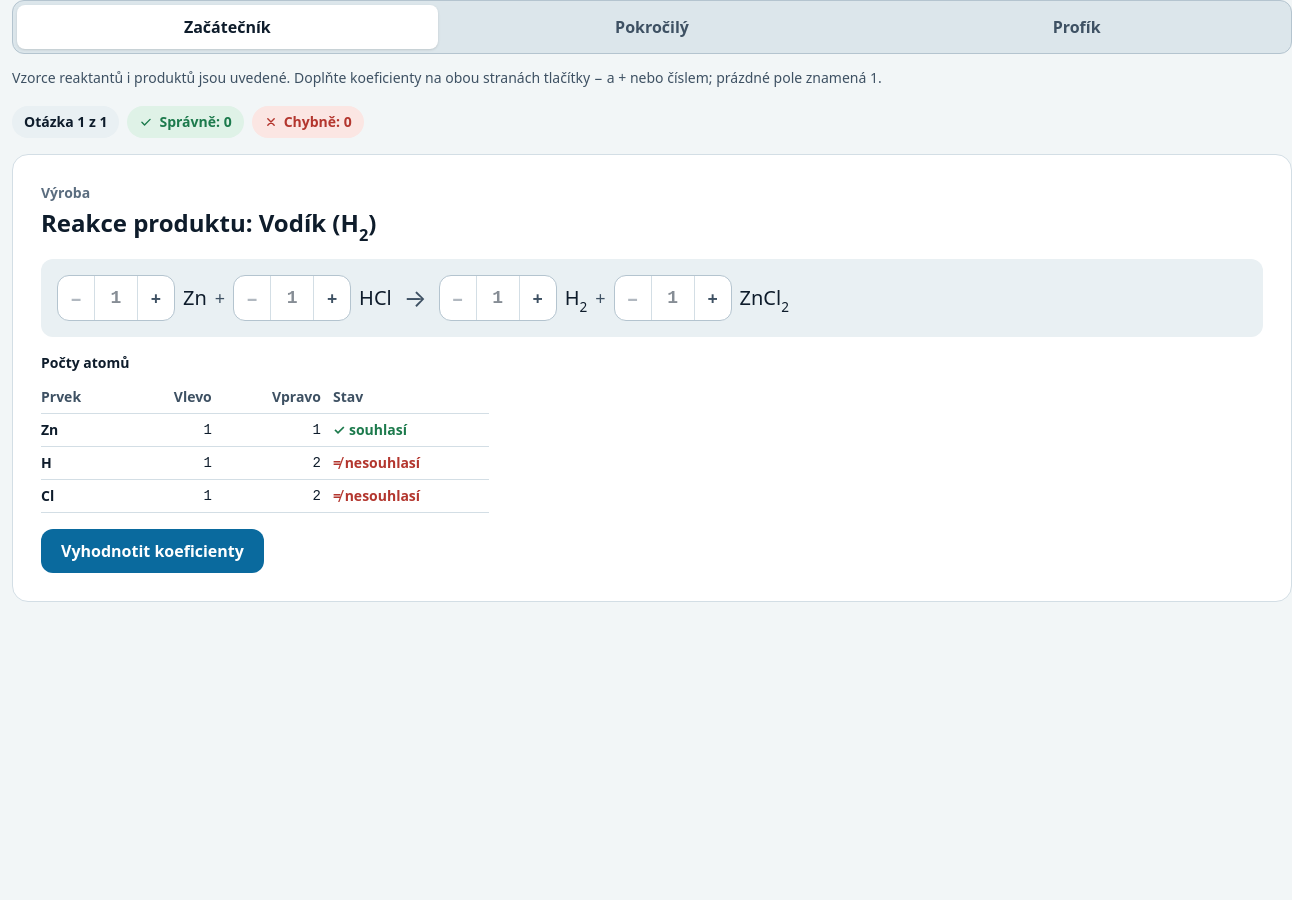
Test: reaction equation practice › accepts reordered products and then balanced coefficients at advanced level
Click the button "Pokročilý". click: click(652, 27)
box: [442,5,862,49]
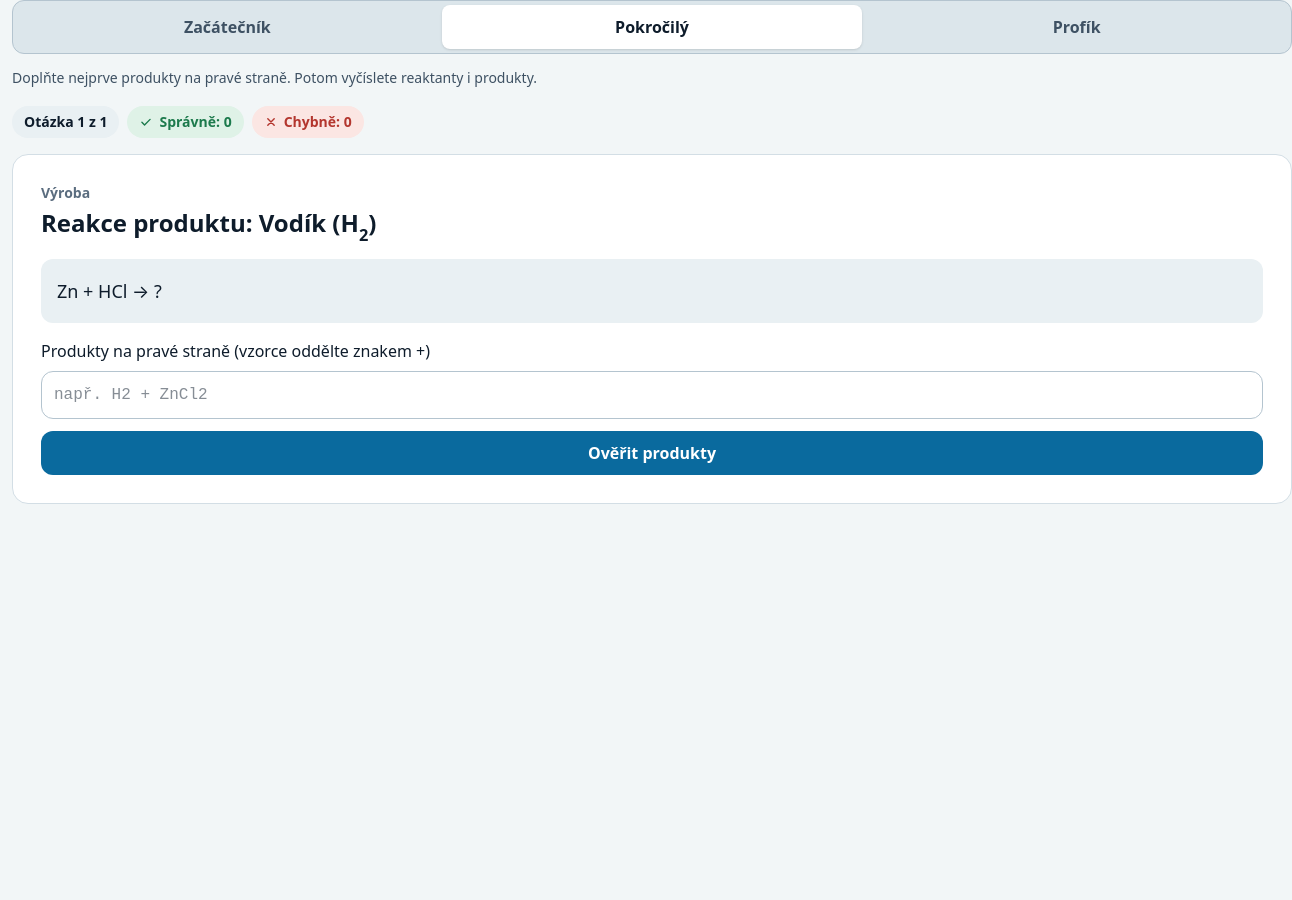
Type "Zn(Cl)2 + H2" into the field labelled "Produkty na pravé straně (vzorce oddělte znakem +)". click: (652, 395)
box: [41,371,1263,419]
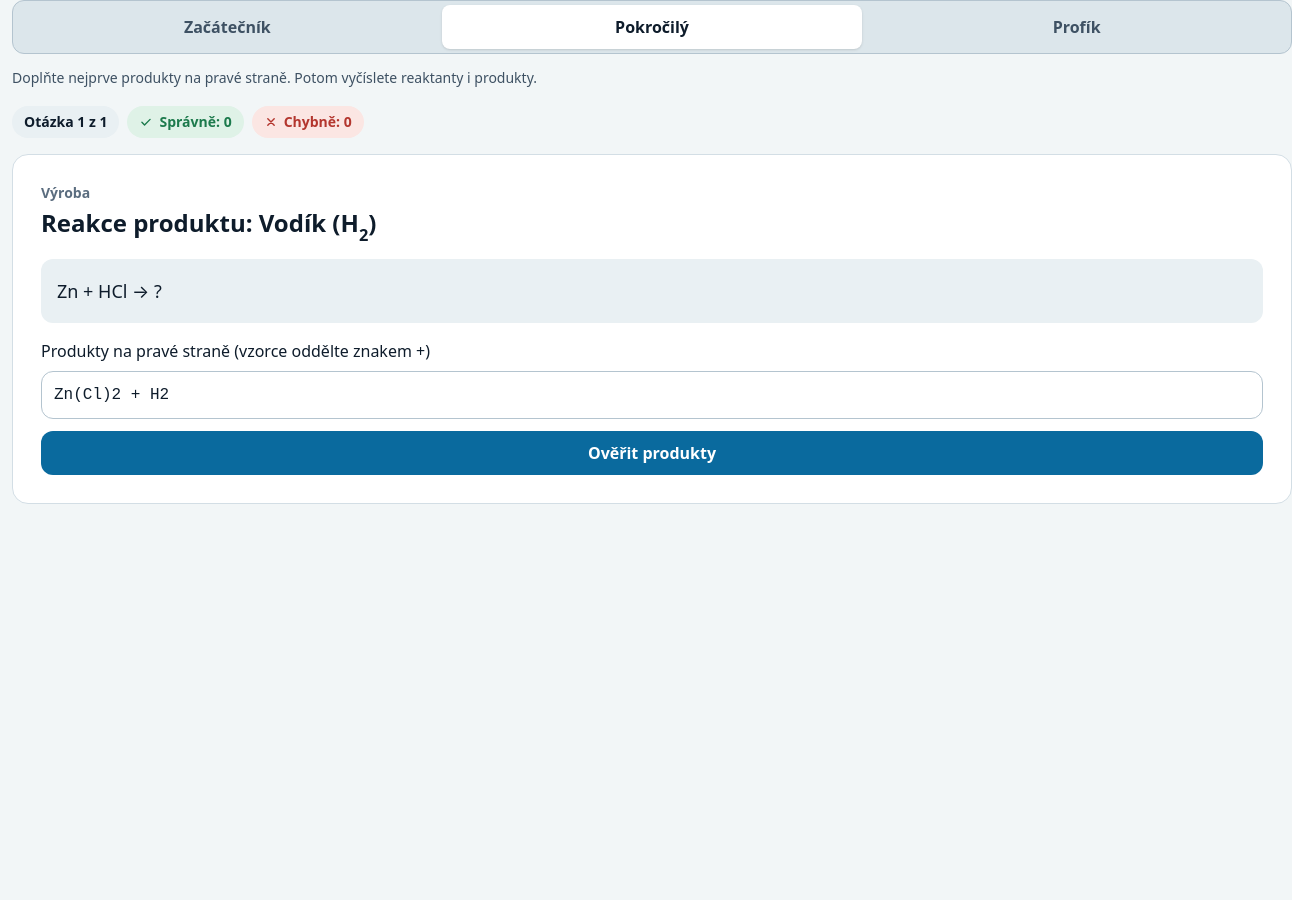
Click the button "Ověřit produkty". click: click(652, 453)
box: [41,431,1263,475]
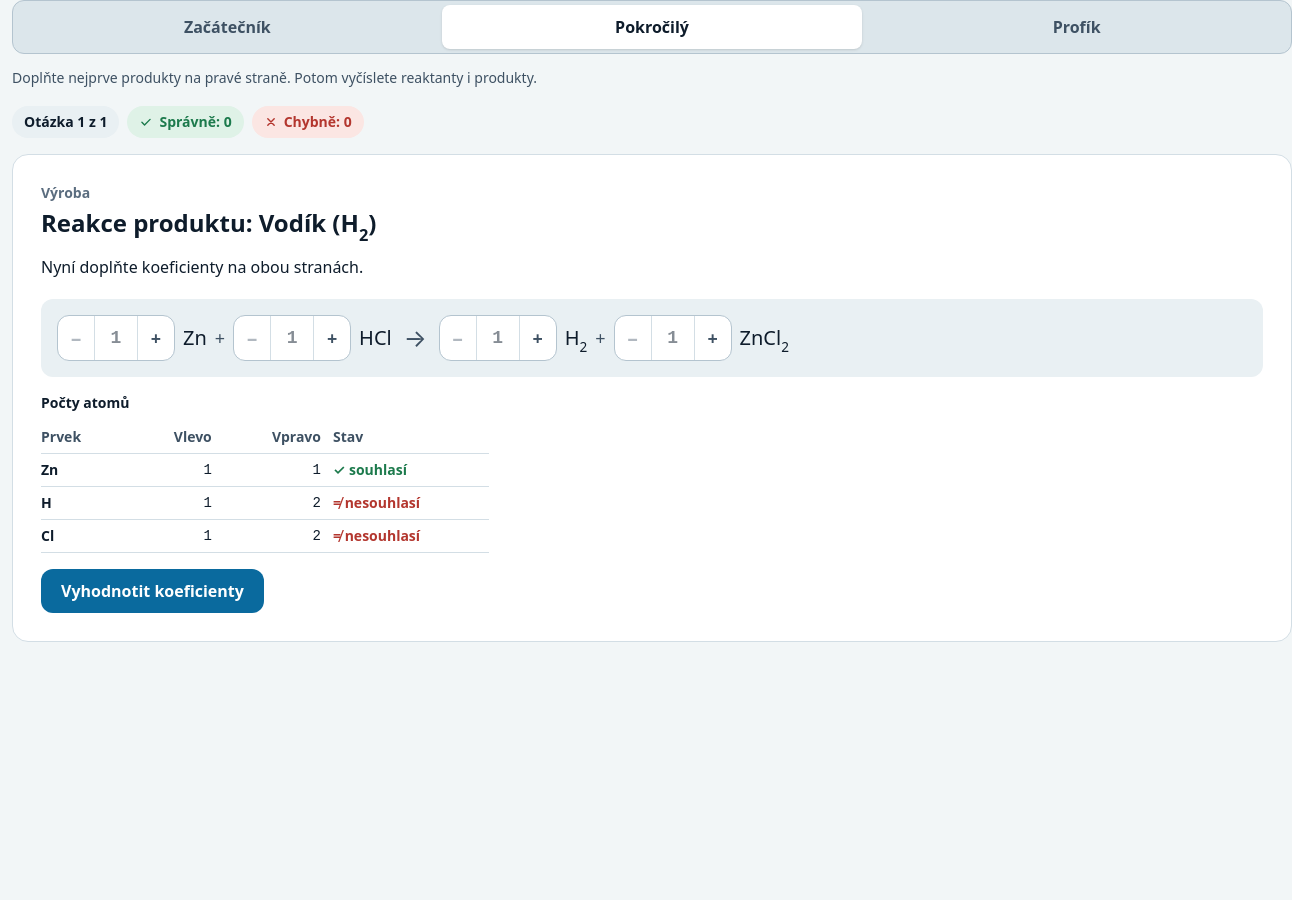
expect the text "Nyní doplňte koeficienty na obou stranách." is shown: met, box [41,256,363,278]
Type "2" into the field named "Koeficient reaktant HCl". click: (292, 338)
box: [270,316,314,360]
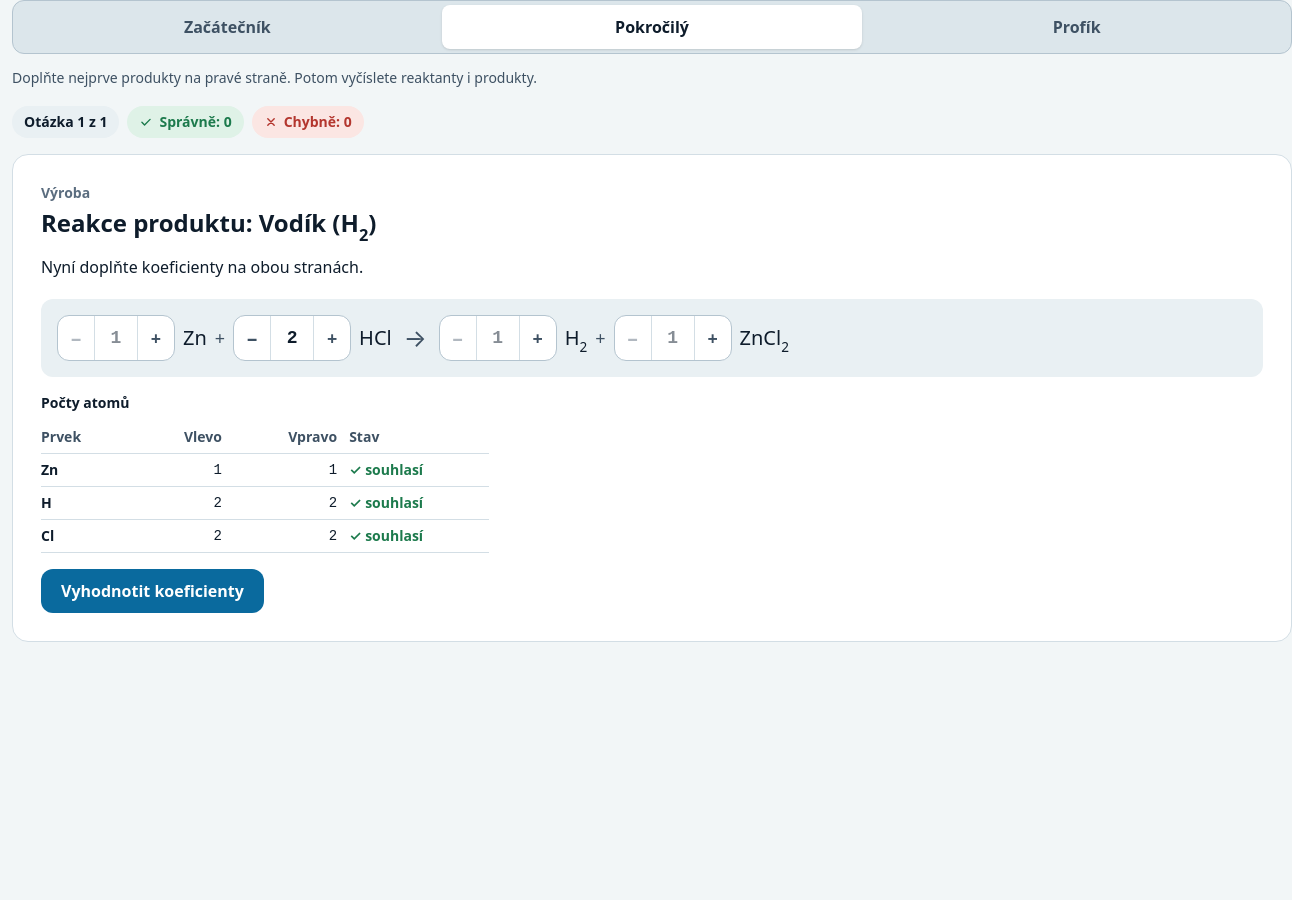
Click the button "Vyhodnotit koeficienty". click: click(152, 591)
box: [41,569,264,613]
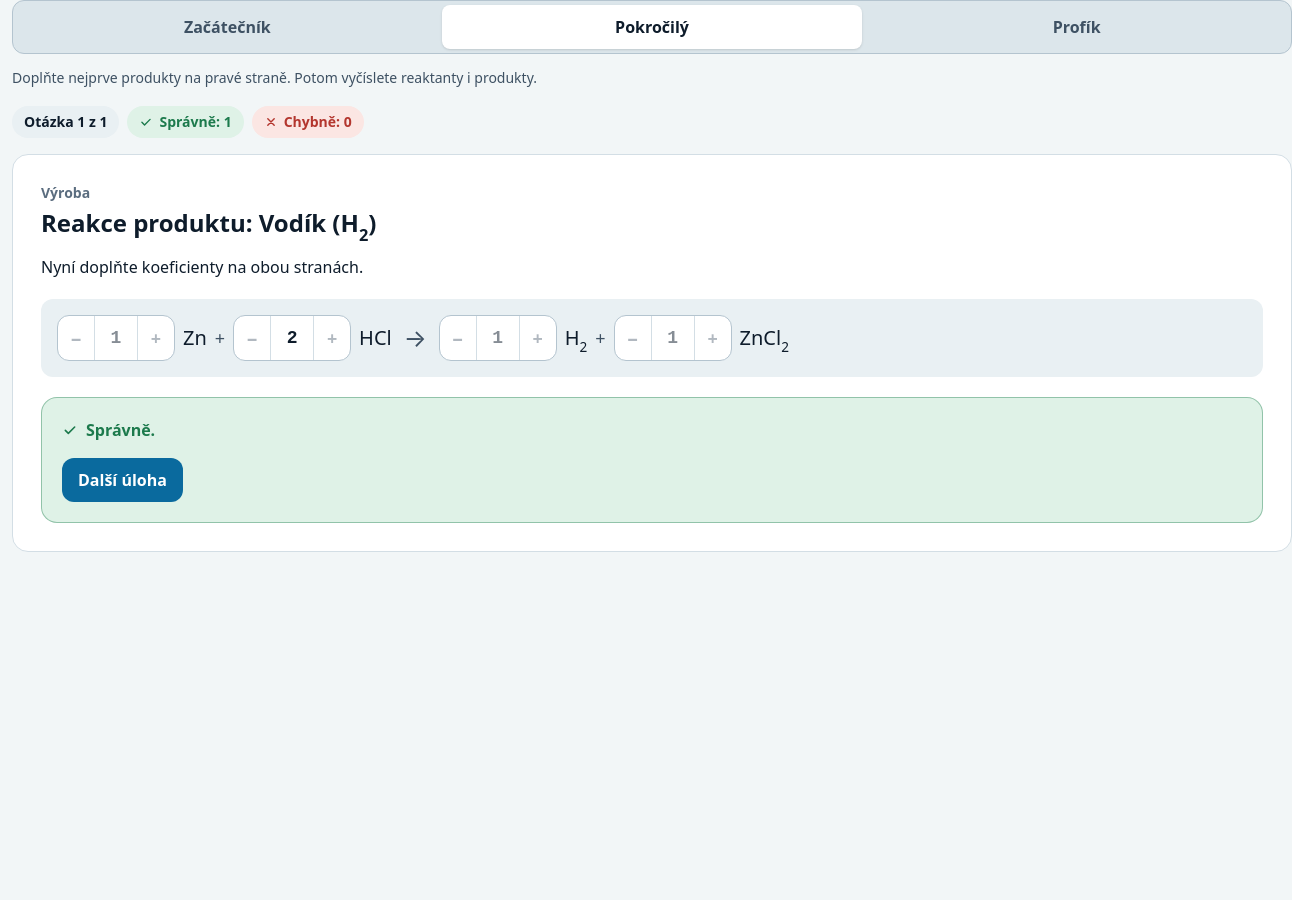
expect the text "Správně." is shown: met, box [86,418,155,442]
